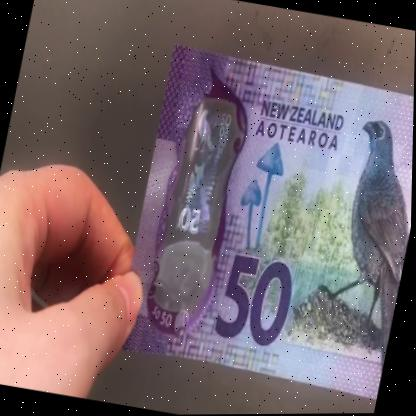50B: (162, 101, 239, 302)
